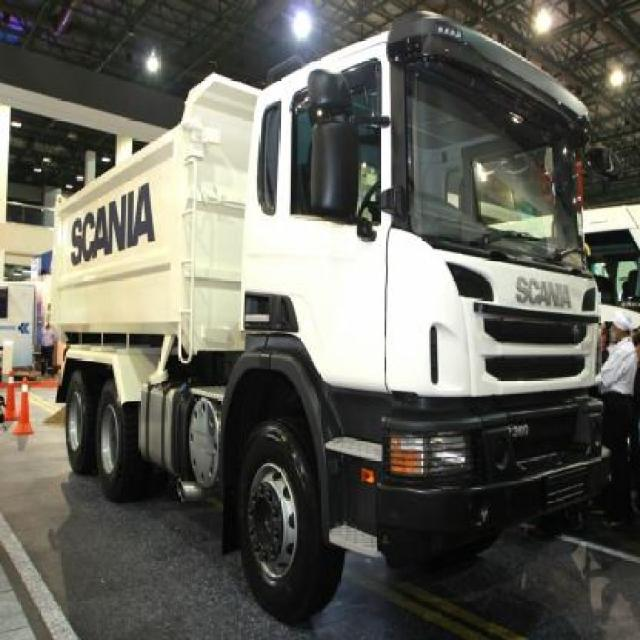truck: (50, 7, 610, 630)
